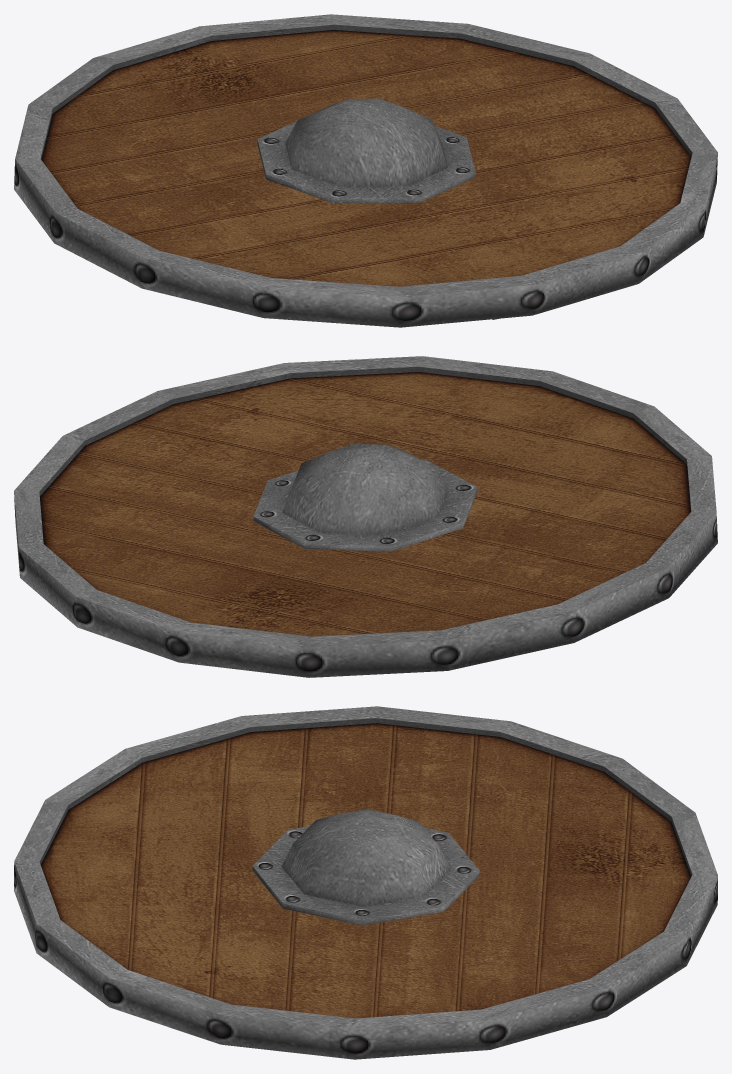
The model's file is ManHole.gltf.
3 views of the same model, one above another, from view 1: azimuth 30°, elevation 25°; view 2: azimuth 150°, elevation 25°; view 3: azimuth 270°, elevation 25° (orthographic).
Visible parts, largest first — view 1: Shield; view 2: Shield; view 3: Shield.
Boxes of the visible parts, x1,y1,x2,y2 form: Shield: (14,14,717,327); Shield: (14,356,717,677); Shield: (14,706,717,1059).
Size of the model in its own units: 1.76 by 0.3508 by 1.76.
1 material, 1 textured.
